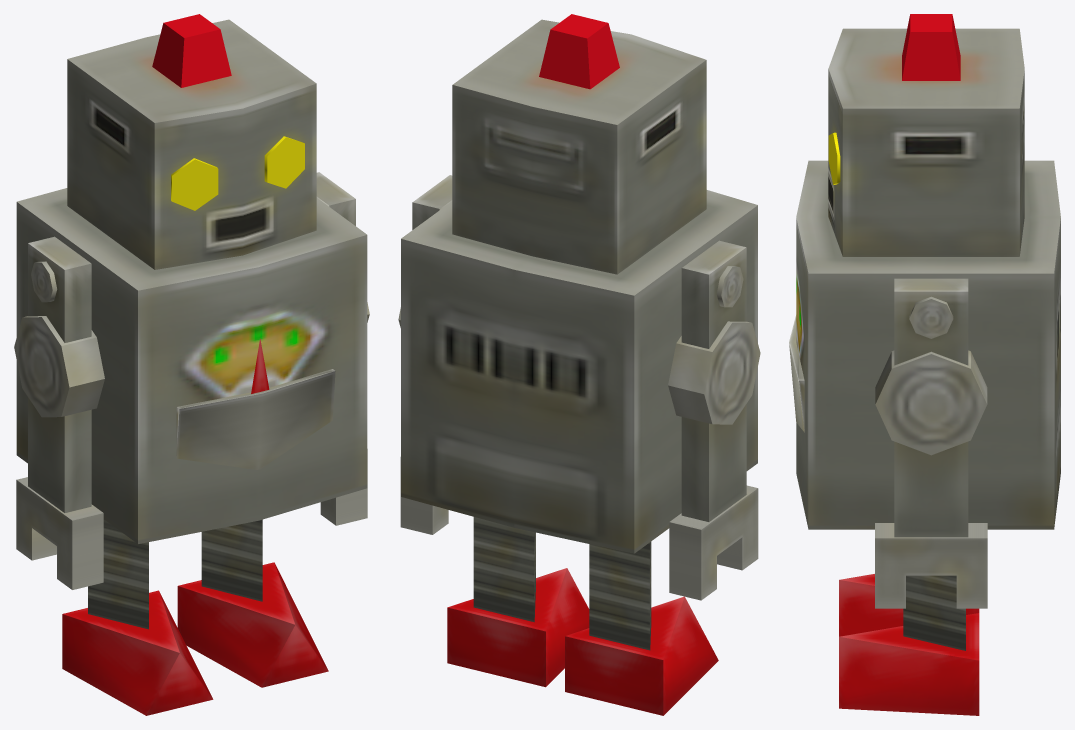
File: NostalgicRobot_HD.fbx
The picture shows the model from 3 angles, left to right: view 1: azimuth 30°, elevation 25°; view 2: azimuth 150°, elevation 25°; view 3: azimuth 270°, elevation 25°; orthographic projection.
Visible parts, largest first — view 1: NostalgicRobot; view 2: NostalgicRobot; view 3: NostalgicRobot.
Boxes of the visible parts, <box> form: NostalgicRobot: <box>14,14,369,715</box>; NostalgicRobot: <box>398,14,760,715</box>; NostalgicRobot: <box>789,14,1060,715</box>.
Bounding box in the file's own units: 0.3451 × 0.6962 × 0.2678.
